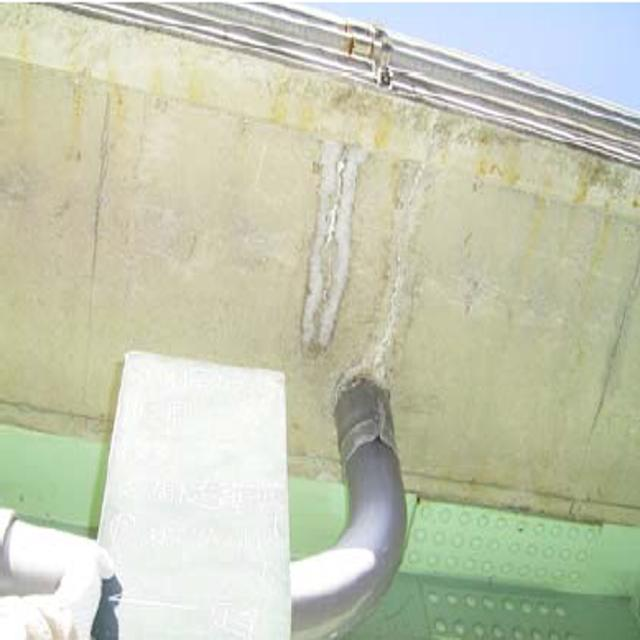freelime: (307, 124, 359, 357)
